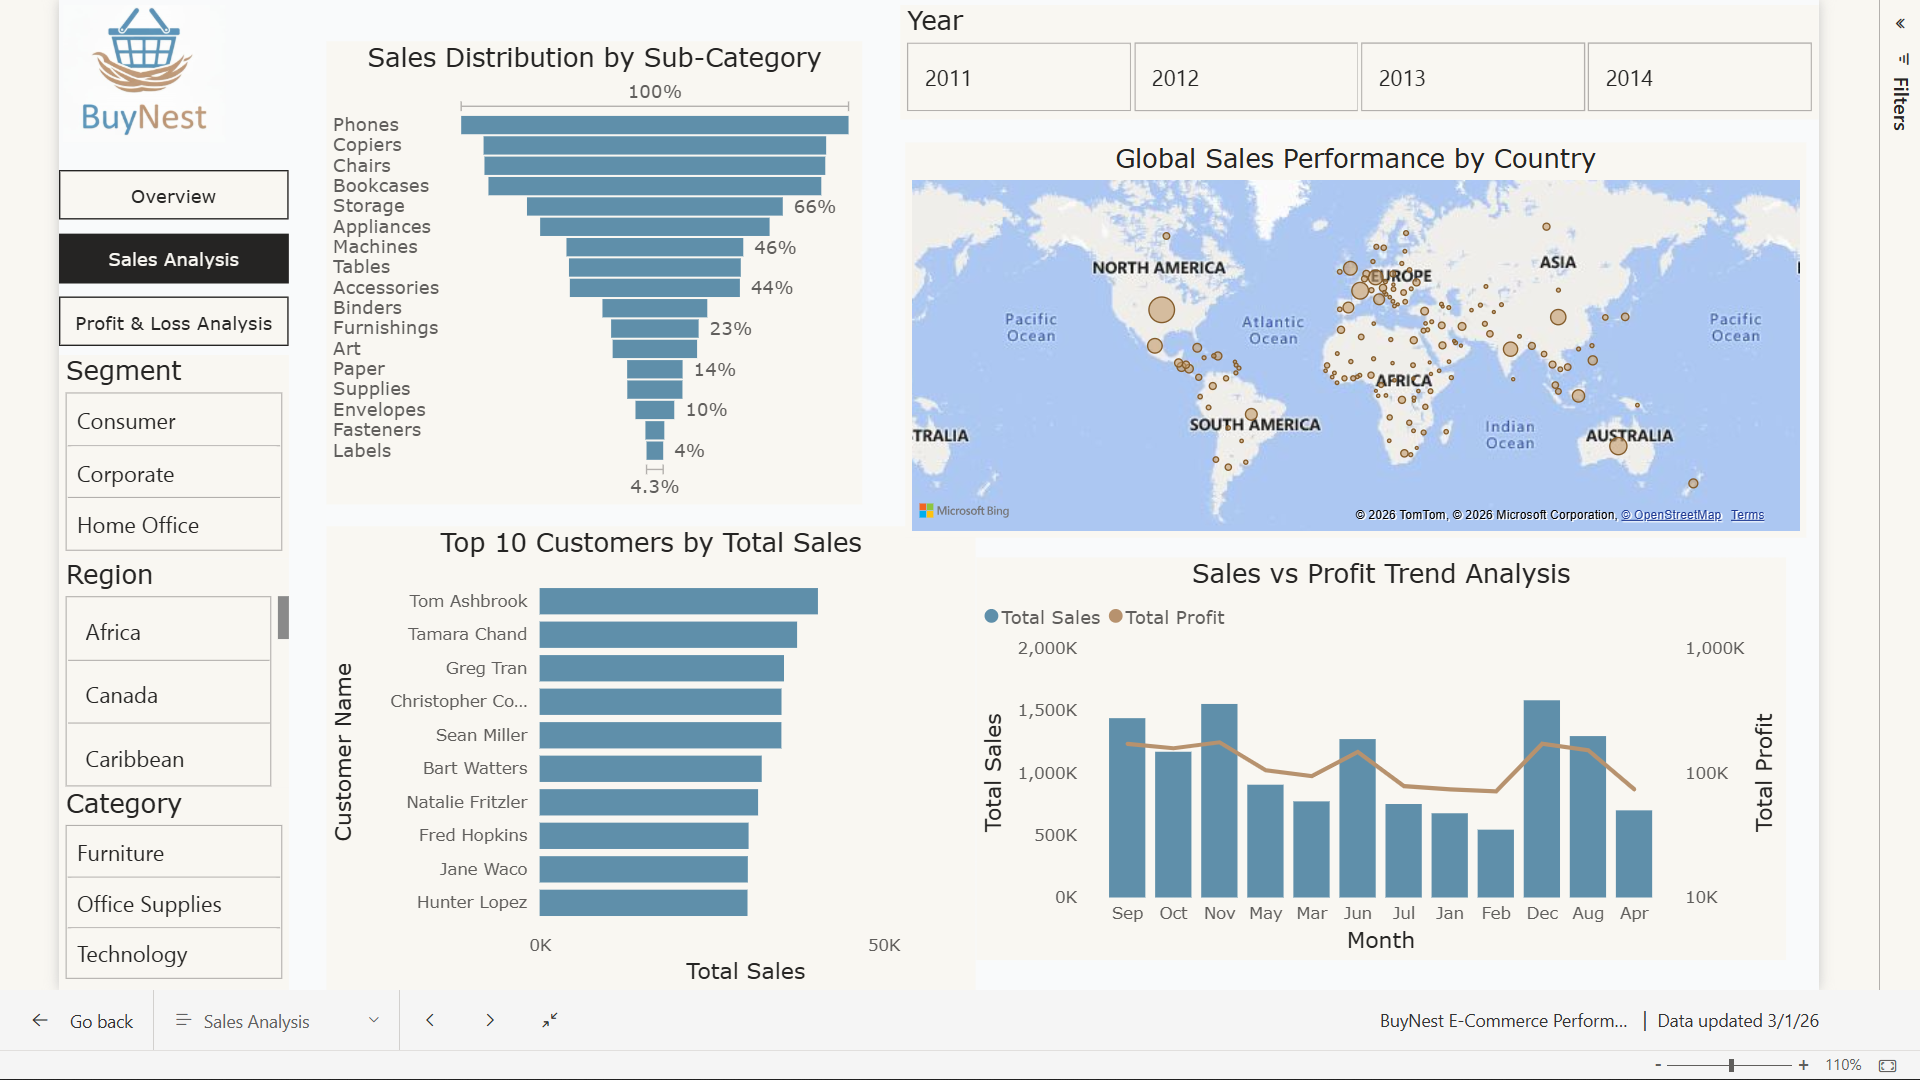

Layout of this report page (visuals, bound fields, positions):
{"tool":"powerbi","page":{"name":"Sales Analysis","canvas":[1280,720],"ordinal":1},"visuals":[{"type":"lineStackedColumnComboChart","title":"Sales vs Profit Trend Analysis","fields":{"Category":["Date Table.Month"],"Y":["BuyNest_E_Commerce.Total Sales"],"Y2":["BuyNest_E_Commerce.Total Profit"]},"box":[667.1,405.1,588.6,292.4],"z":0},{"type":"barChart","title":"Top 10 Customers by Total Sales","fields":{"Category":["BuyNest_E_Commerce.Customer Name"],"Y":["BuyNest_E_Commerce.Total Sales"]},"box":[194.9,382.3,472.2,338],"z":1000},{"type":"actionButton","box":[0,0,100,40],"z":2000},{"type":"funnel","title":"Sales Distribution by Sub-Category","fields":{"Category":["BuyNest_E_Commerce.Sub-Category"],"Y":["Sum(BuyNest_E_Commerce.Sales)"]},"box":[194.9,30.4,389.9,336.7],"z":3000},{"type":"advancedSlicerVisual","fields":{"Values":["Date Table.Date.Variation.Date Hierarchy.Year"]},"box":[611.7,3.6,668.4,83.2],"z":4000},{"type":"advancedSlicerVisual","fields":{"Values":["BuyNest_E_Commerce.Region"]},"box":[0,406.3,167.1,167.1],"z":5000},{"type":"advancedSlicerVisual","fields":{"Values":["BuyNest_E_Commerce.Segment"]},"box":[0,258.2,167.1,148.1],"z":6000},{"type":"advancedSlicerVisual","fields":{"Values":["BuyNest_E_Commerce.Category"]},"box":[0,573.2,167.1,146.8],"z":7000},{"type":"pageNavigator","box":[0,124.1,167.1,130.4],"z":8000},{"type":"image","box":[0,3.6,135.1,100.1],"z":9000},{"type":"map","title":"Global Sales Performance by Country","fields":{"Category":["BuyNest_E_Commerce.Country"],"Size":["Sum(BuyNest_E_Commerce.Sales)"]},"box":[615.3,103.8,655.1,287.1],"z":10000}]}

Visuals, with their boxes on the page's 1280x720 design canvas (x1, y1, x2, y2). These are canvas units, not pixel positions in the 1920x1080 screenshot, which may show the page scaled, cropped or inside an application window:
"Sales vs Profit Trend Analysis" lineStackedColumnComboChart: crop(667, 405, 1256, 698)
"Top 10 Customers by Total Sales" barChart: crop(195, 382, 667, 720)
actionButton: crop(0, 0, 100, 40)
"Sales Distribution by Sub-Category" funnel: crop(195, 30, 585, 367)
advancedSlicerVisual - Date Table.Date.Variation.Date Hierarchy.Year: crop(612, 4, 1280, 87)
advancedSlicerVisual - BuyNest_E_Commerce.Region: crop(0, 406, 167, 573)
advancedSlicerVisual - BuyNest_E_Commerce.Segment: crop(0, 258, 167, 406)
advancedSlicerVisual - BuyNest_E_Commerce.Category: crop(0, 573, 167, 720)
pageNavigator: crop(0, 124, 167, 254)
image: crop(0, 4, 135, 104)
"Global Sales Performance by Country" map: crop(615, 104, 1270, 391)
